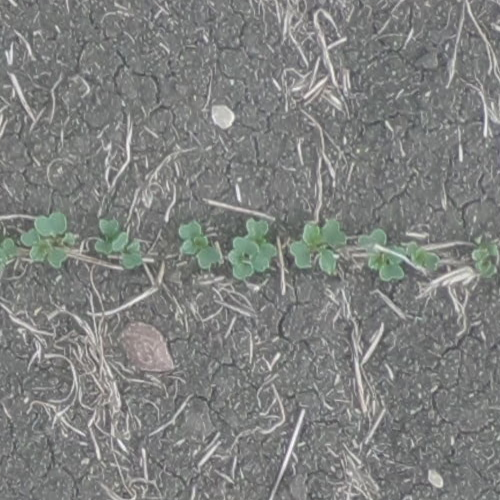clumped: (358, 227, 439, 280), (226, 218, 278, 277), (95, 217, 145, 270), (0, 218, 16, 277)
isolated: (19, 212, 74, 267), (292, 220, 347, 268), (178, 222, 220, 268)
